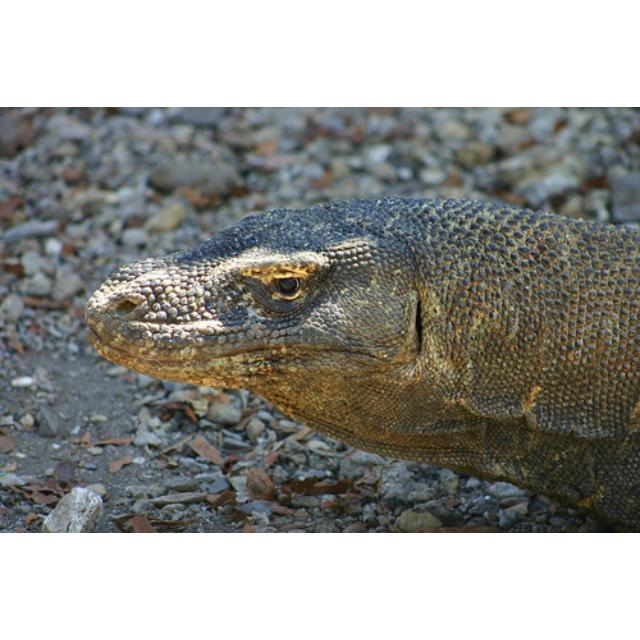KomodoDragon: (82, 195, 636, 530)
